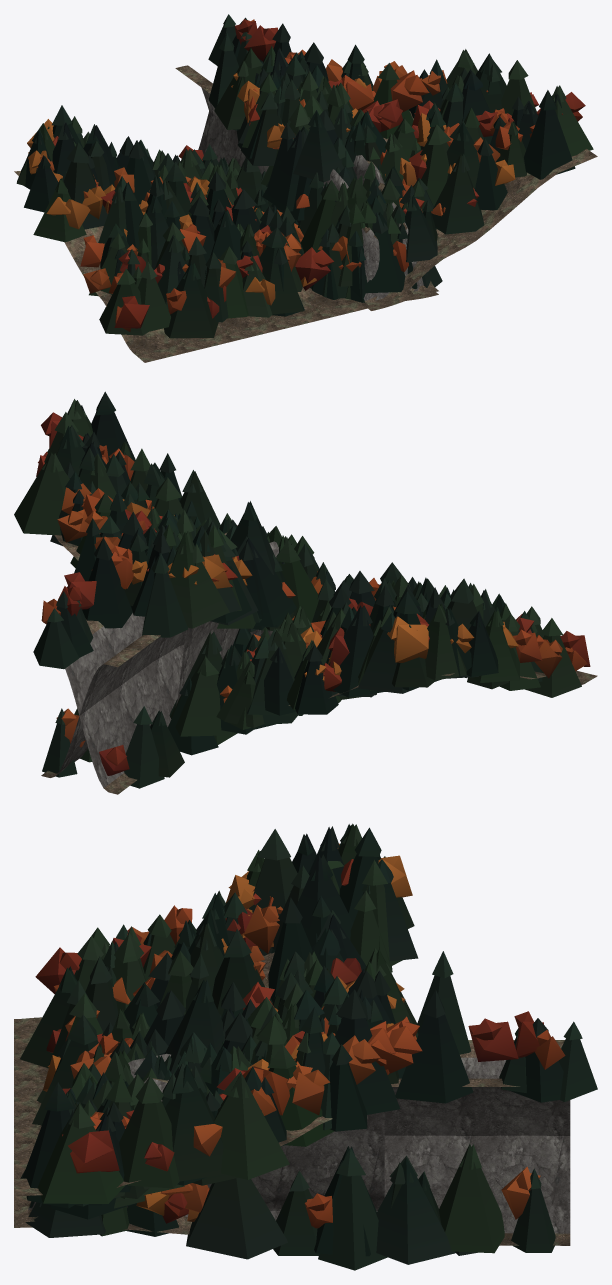
File: bk_forest_autumn.glb
3 renders of one model, top to bottom at view 1: azimuth 30°, elevation 25°; view 2: azimuth 150°, elevation 25°; view 3: azimuth 270°, elevation 25°, orthographic. The views are drawn at different scales.
Parts seen in each view (by area): view 1: trees_corner_inner, trees_corner_outer, corner_inner, trees_endcap_land_to_sea, trees_straight12_c, trees_straight12_a, corner_outer, trees_endcap_sea_to_land, trees_straight6, trees_straight12_b, endcap_sea_to_land, endcap_land_to_sea (+2 smaller); view 2: trees_corner_inner, trees_corner_outer, trees_endcap_sea_to_land, trees_endcap_land_to_sea, endcap_sea_to_land, trees_straight6, endcap_land_to_sea, trees_straight12_a, trees_straight12_c, pass12, trees_pass12, trees_straight12_b (+1 smaller); view 3: trees_corner_inner, trees_corner_outer, trees_endcap_land_to_sea, trees_endcap_sea_to_land, endcap_land_to_sea, endcap_sea_to_land, pass12, trees_straight12_b, corner_inner, trees_straight12_a, trees_straight12_c, trees_straight6 (+1 smaller).
Part boxes in pixels (x1,y1,x2,y2): trees_corner_inner: (16, 105, 347, 338); trees_corner_outer: (271, 44, 593, 303); corner_inner: (14, 171, 370, 362); trees_endcap_land_to_sea: (208, 33, 442, 287); trees_straight12_c: (242, 42, 427, 297); trees_straight12_a: (233, 46, 408, 299); corner_outer: (364, 111, 597, 307); trees_endcap_sea_to_land: (178, 14, 361, 271); trees_straight6: (231, 48, 371, 211); trees_straight12_b: (259, 51, 418, 288); endcap_sea_to_land: (198, 111, 433, 310); endcap_land_to_sea: (175, 65, 438, 303); trees_corner_inner: (169, 562, 590, 736); trees_corner_outer: (14, 391, 318, 627); trees_endcap_sea_to_land: (33, 537, 251, 788); trees_endcap_land_to_sea: (42, 501, 275, 777); endcap_sea_to_land: (65, 532, 227, 794); trees_straight6: (131, 525, 294, 630); endcap_land_to_sea: (41, 541, 278, 777); trees_straight12_a: (154, 509, 322, 628); trees_straight12_c: (118, 511, 319, 630); pass12: (175, 621, 272, 707); trees_pass12: (271, 540, 318, 631); trees_straight12_b: (124, 510, 295, 631); trees_corner_inner: (20, 823, 418, 1125); trees_corner_outer: (23, 972, 395, 1208); trees_endcap_land_to_sea: (25, 948, 555, 1270); trees_endcap_sea_to_land: (371, 989, 597, 1103); endcap_land_to_sea: (14, 1040, 570, 1245); endcap_sea_to_land: (28, 1077, 570, 1221); pass12: (14, 1112, 384, 1222); trees_straight12_b: (29, 966, 398, 1219); corner_inner: (14, 952, 274, 1175); trees_straight12_a: (92, 961, 395, 1208); trees_straight12_c: (20, 959, 401, 1207); trees_straight6: (84, 969, 405, 1085).
Size of the model in its own units: 86.04 by 31.85 by 63.
Materials: 3 (2 with a texture image).
